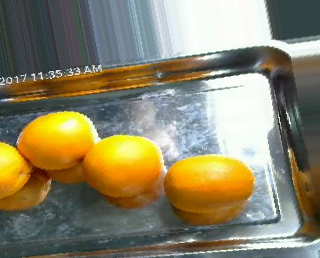Orange: (163, 154, 254, 211), (82, 134, 163, 198), (16, 110, 98, 172)
